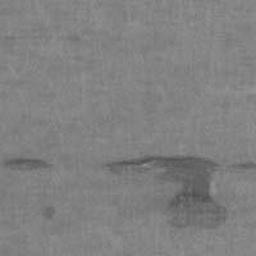Oil spot: (101, 151, 256, 230), (3, 155, 58, 173), (41, 204, 56, 223)
